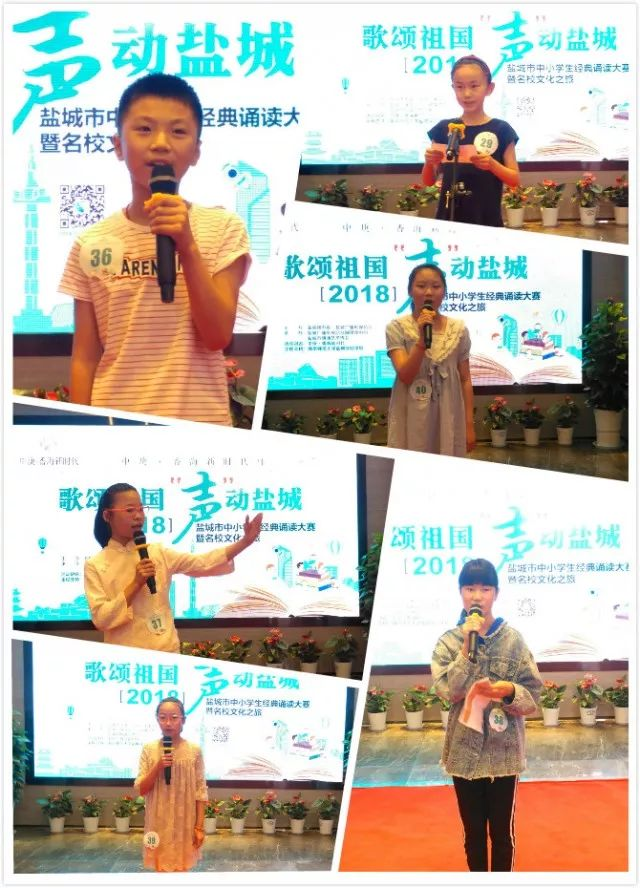handsup: (64, 69, 254, 410), (420, 541, 547, 863), (81, 481, 273, 656), (377, 258, 487, 468), (126, 694, 218, 868)
other: (423, 50, 534, 229)
